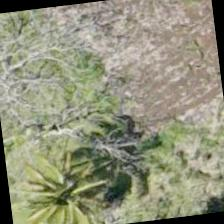Kelapa_Sawit: (13, 149, 113, 223)
